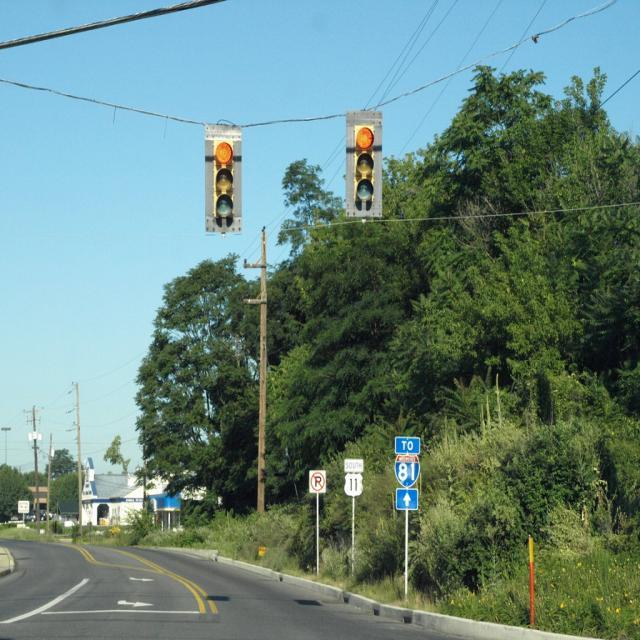traffic light: (213, 139, 234, 218), (354, 124, 375, 202)
